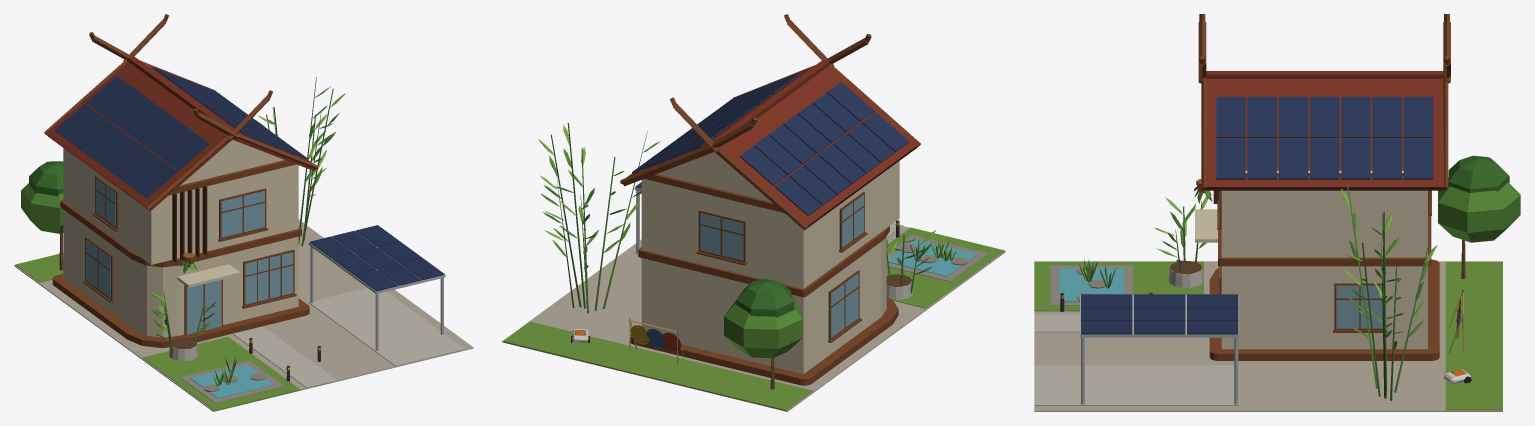
Rendered from house12_1.glb.
3 views of the same model, side by side, from view 1: azimuth 30°, elevation 25°; view 2: azimuth 150°, elevation 25°; view 3: azimuth 270°, elevation 25° (orthographic). The views are drawn at different scales.
Parts seen in each view (by area): view 1: body; view 2: body; view 3: body.
Boxes of the visible parts, x1,y1,x2,y2 form: body: (14, 14, 473, 411); body: (502, 14, 1005, 411); body: (1034, 14, 1520, 411).
Size of the model in its own units: 12.87 by 10.49 by 16.5.
